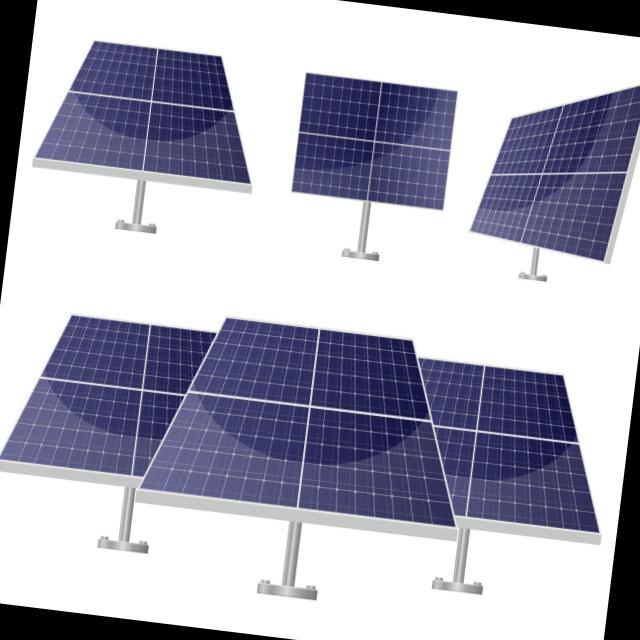no faulty: (147, 320, 452, 525), (1, 312, 215, 476), (424, 355, 597, 537), (38, 39, 250, 180), (468, 94, 640, 264), (296, 70, 453, 206)
